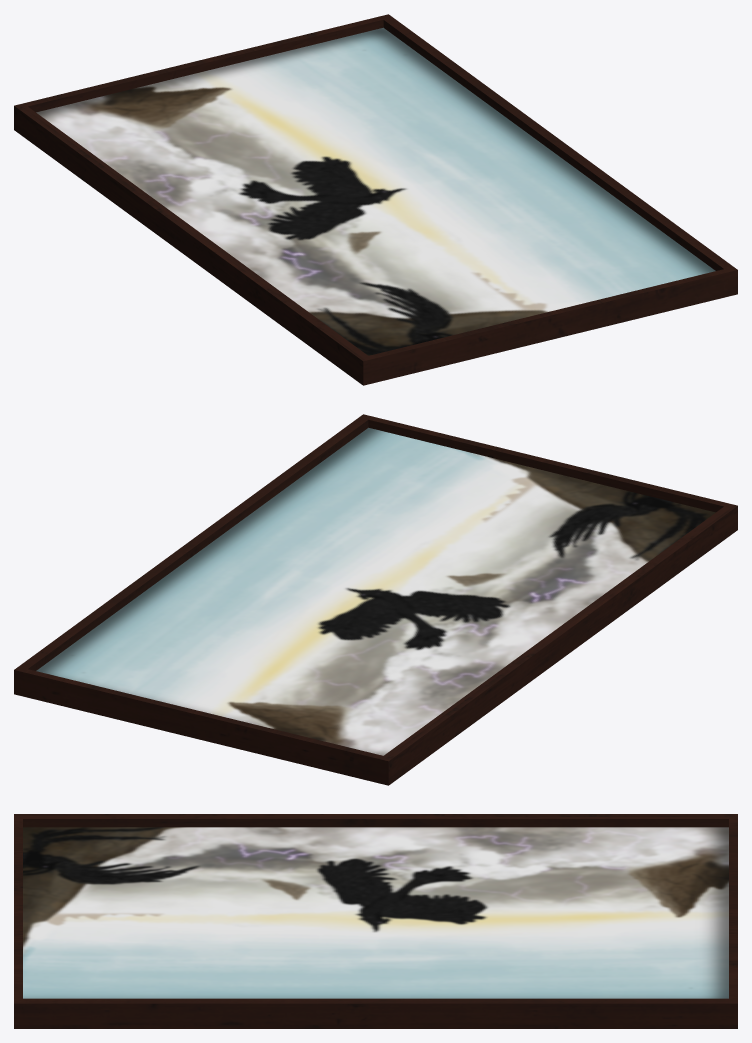
The model's file is museum_painting1.fbx.
3 views of the same model, one above another, from view 1: azimuth 30°, elevation 25°; view 2: azimuth 150°, elevation 25°; view 3: azimuth 270°, elevation 25° (orthographic). The views are drawn at different scales.
Visible parts, largest first — view 1: pCube5; view 2: pCube5; view 3: pCube5.
Part boxes in pixels (left/top/right/bottom): pCube5: left=14, top=14, right=737, bottom=385; pCube5: left=14, top=414, right=737, bottom=785; pCube5: left=14, top=814, right=737, bottom=1028.
Size of the model in its own units: 3.84 by 0.2387 by 6.2.
